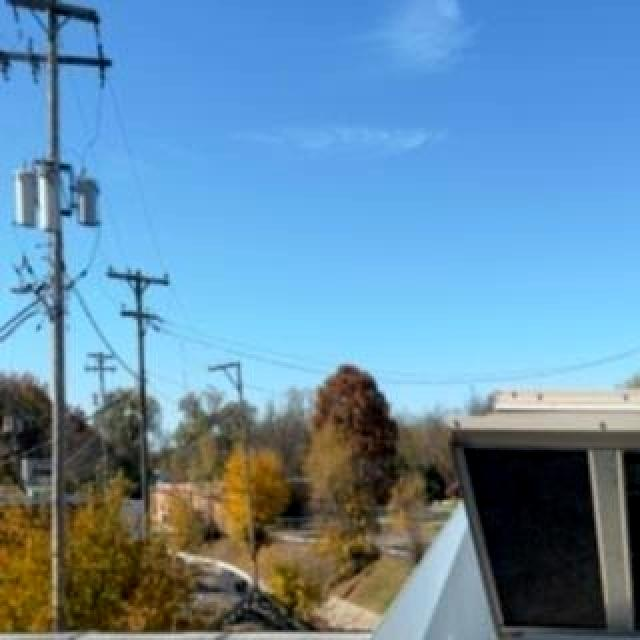RTU: (440, 374, 640, 640)
